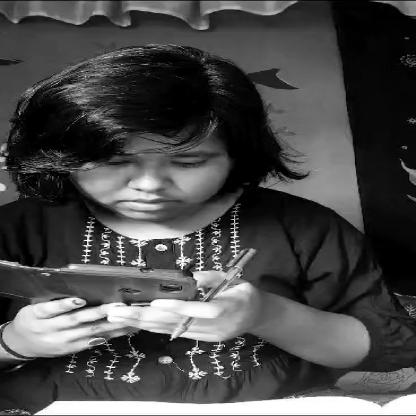Normal: (41, 86, 253, 225)
